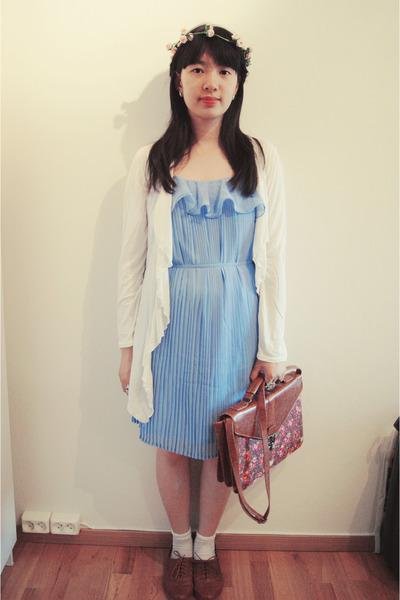bag: (211, 377, 302, 498)
dress: (132, 163, 264, 467)
jacket: (113, 143, 287, 419)
shoe: (162, 536, 225, 599)
